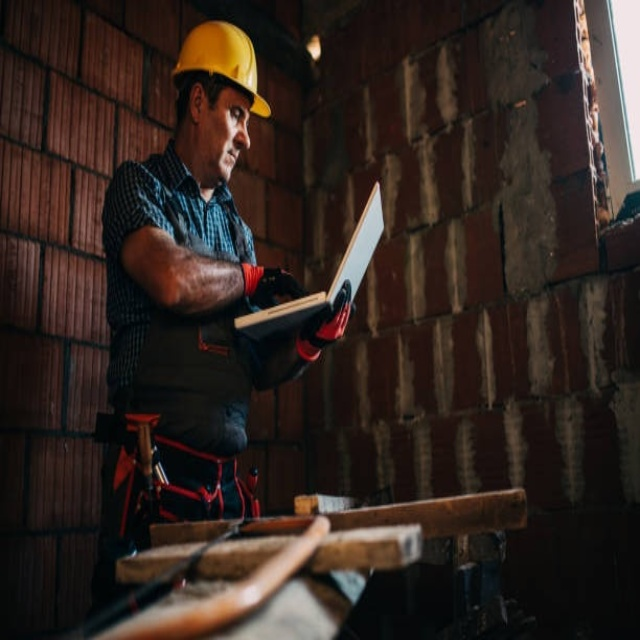Guantes: (299, 279, 354, 354), (245, 265, 302, 308)
Sin_gafas: (216, 91, 251, 124)
Sin_mascara: (213, 141, 243, 180)
